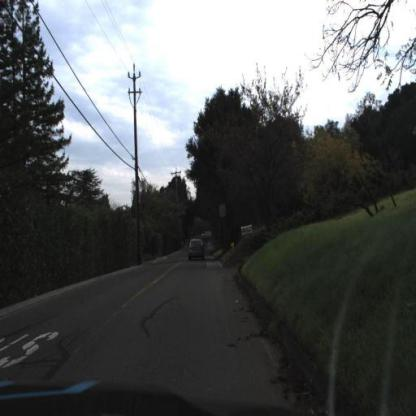car: (188, 236, 209, 265)
